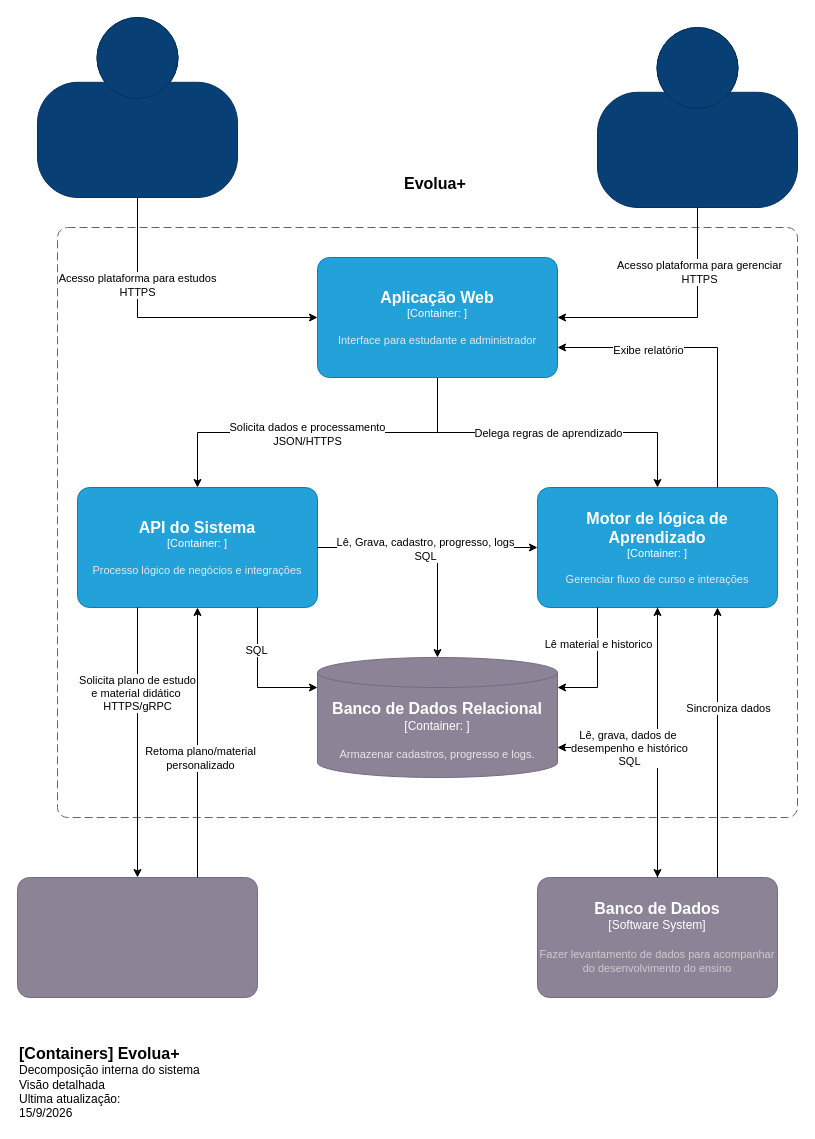
Some shapes in this 815 by 1139 pixel diagram are drawn without their labels. Each missing label, with the box of its shape:
Administrador [Person] Responsável por gerenciar o desenvolvimento do site: (596, 26, 798, 208)
Aluno [Person] Usuário da plataforma de ensino: (36, 16, 238, 198)
Inteligência Artificial [Software System] Gerenciamento de planos de estudos: (16, 876, 258, 998)
